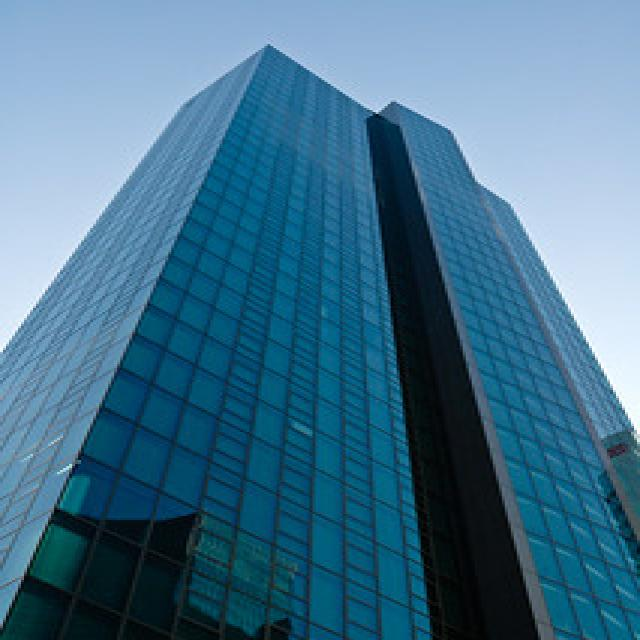building: (9, 44, 640, 640)
